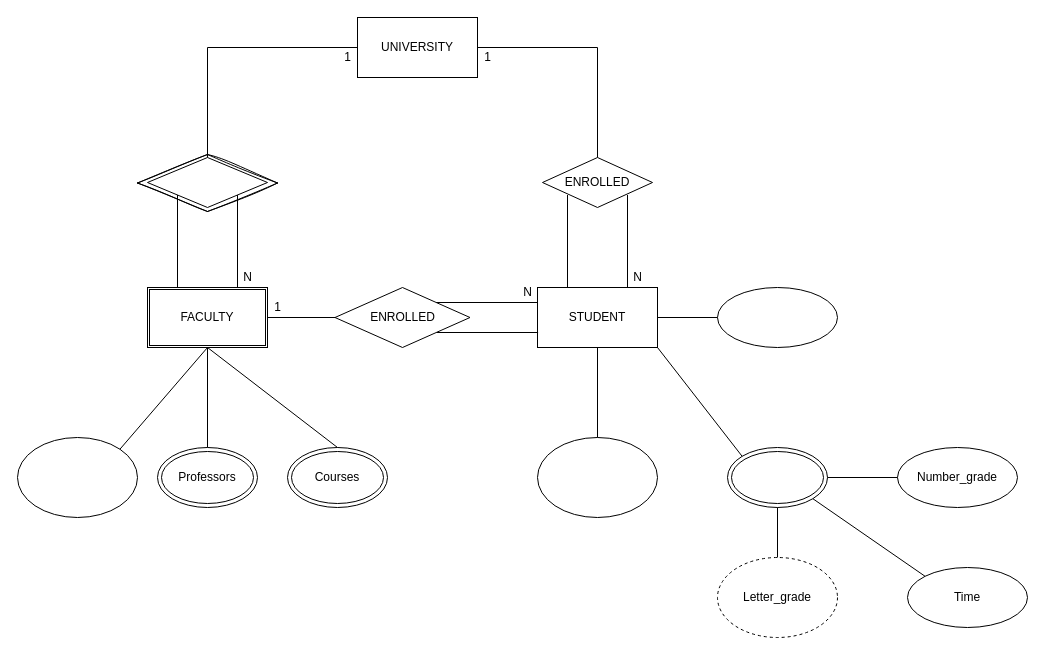
Image size: 1045x655. Some labels were removed from this diagram. The centre of each missing label's shape, as x and y in pixels:
CONTAINS: [207,182]
Director: [77,477]
Grades: [777,477]
Group number: [597,477]
Student_ID: [777,317]
